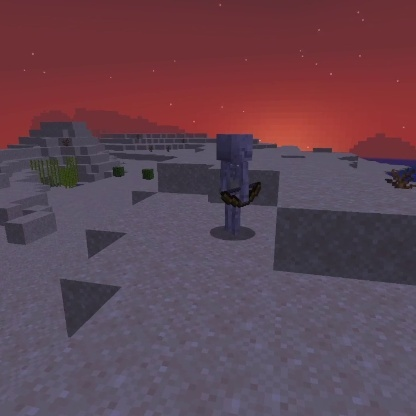skeleton: (213, 130, 264, 237)
